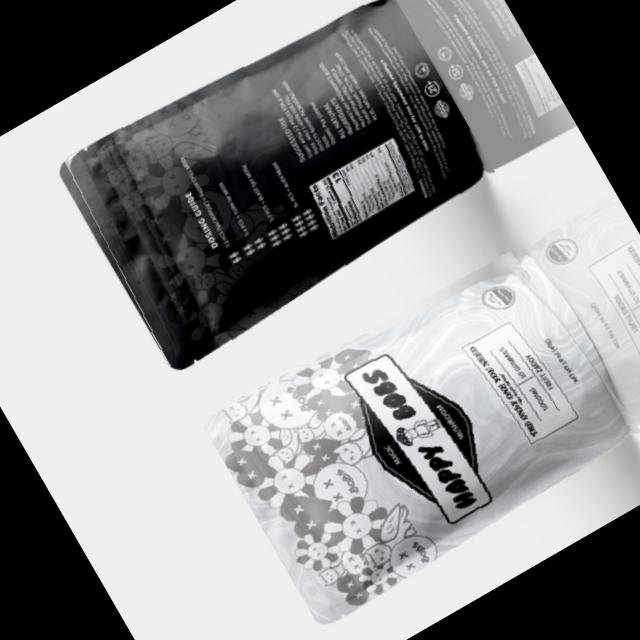Hazard: (199, 229, 640, 630), (52, 0, 502, 374)
